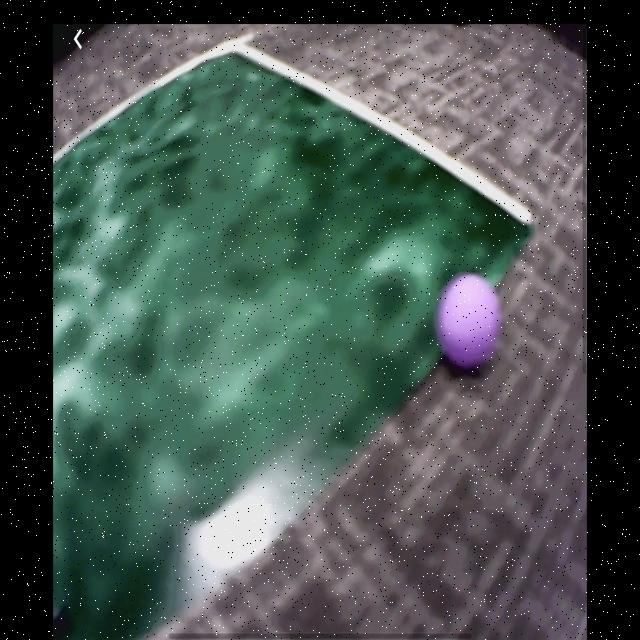ball: (438, 275, 502, 366)
